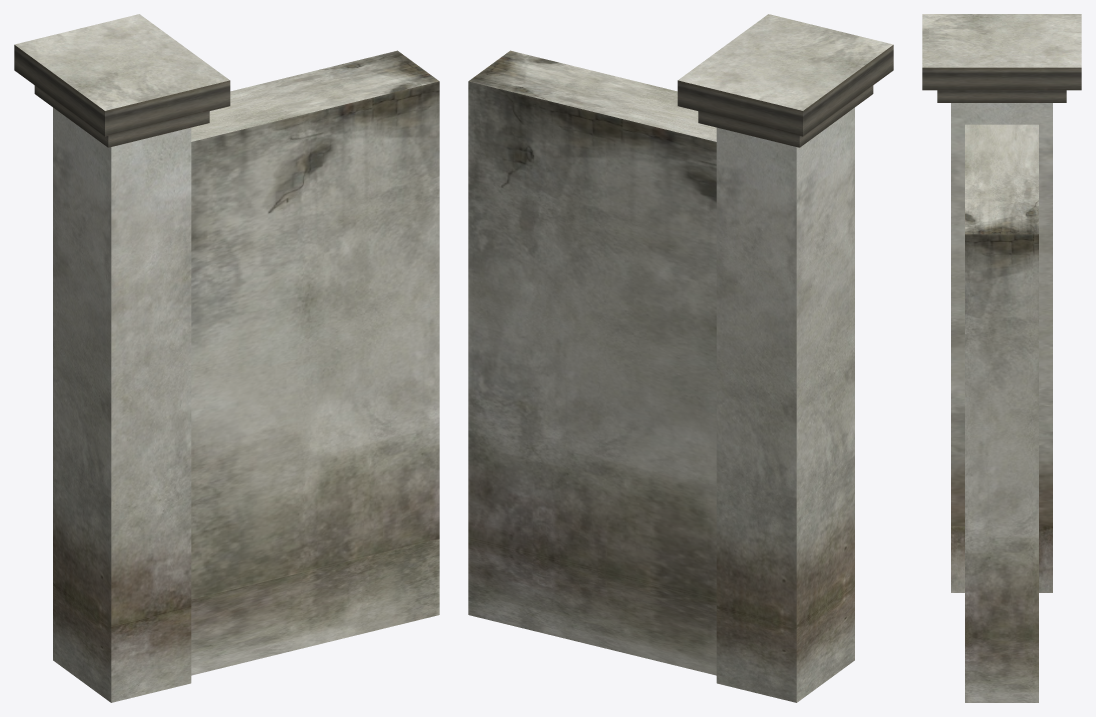
File: english_wall_20.fbx
The picture shows the model from 3 angles, left to right: view 1: azimuth 30°, elevation 25°; view 2: azimuth 150°, elevation 25°; view 3: azimuth 270°, elevation 25°; orthographic projection. The views are drawn at different scales.
Visible parts, largest first — view 1: lod_high; view 2: lod_high; view 3: lod_high.
Part boxes in pixels (<box>): lod_high: <box>14,14,439,702</box>; lod_high: <box>468,14,893,702</box>; lod_high: <box>922,14,1081,702</box>.
Size of the model in its own units: 2466 by 3999 by 1079.
1 material, 1 textured.
